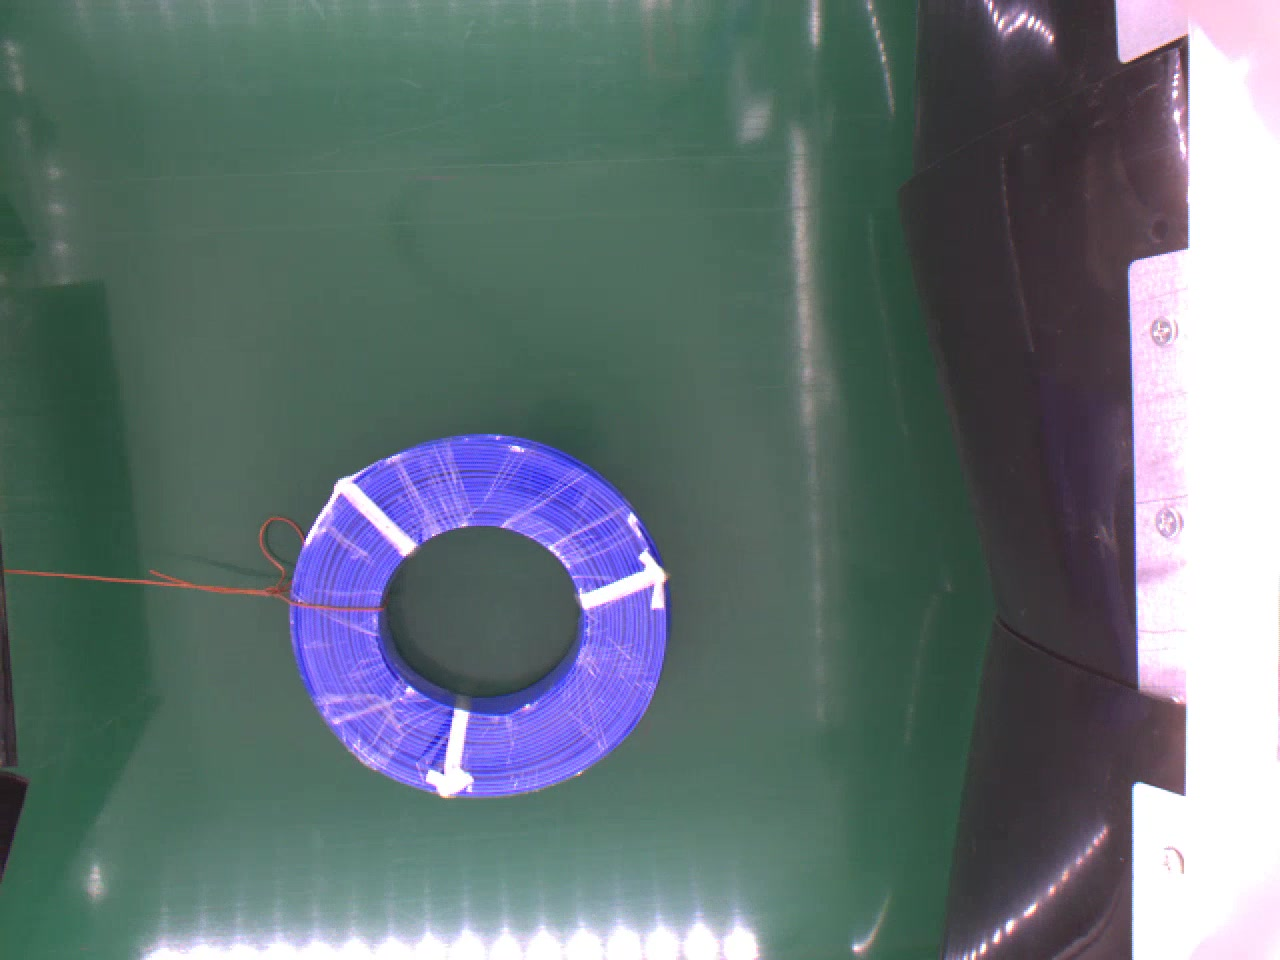blue: (288, 429, 667, 804)
